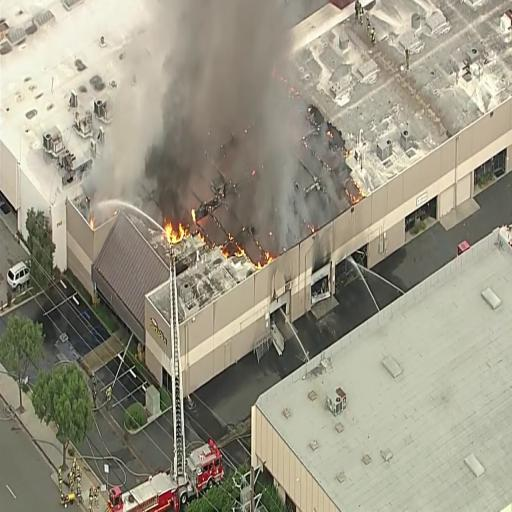fire: (180, 7, 275, 146), (164, 214, 182, 246)
